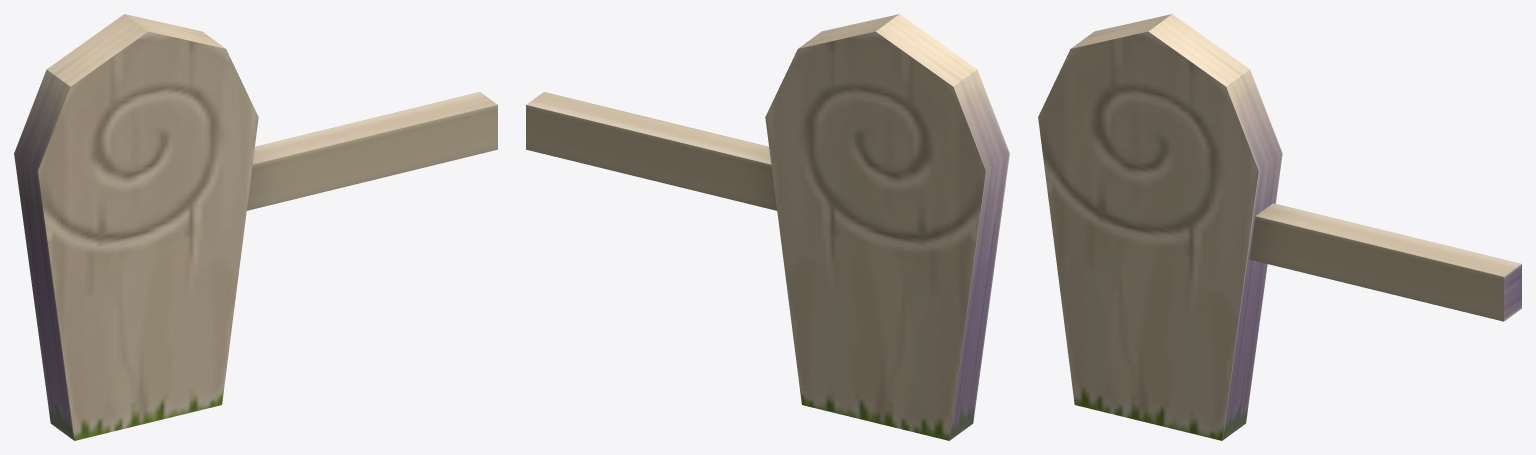
Rendered from scenes_construction_fence03.FBX.
3 renders of one model, left to right at view 1: azimuth 30°, elevation 25°; view 2: azimuth 150°, elevation 25°; view 3: azimuth 330°, elevation 25°, orthographic.
Visible parts, largest first — view 1: scenes_construction_fence03; view 2: scenes_construction_fence03; view 3: scenes_construction_fence03.
Part boxes in pixels (box(x1,y1,x2,y2)): scenes_construction_fence03: box(14, 14, 497, 440); scenes_construction_fence03: box(526, 14, 1009, 440); scenes_construction_fence03: box(1038, 14, 1521, 440).
Size of the model in its own units: 394 by 318 by 35.23.
